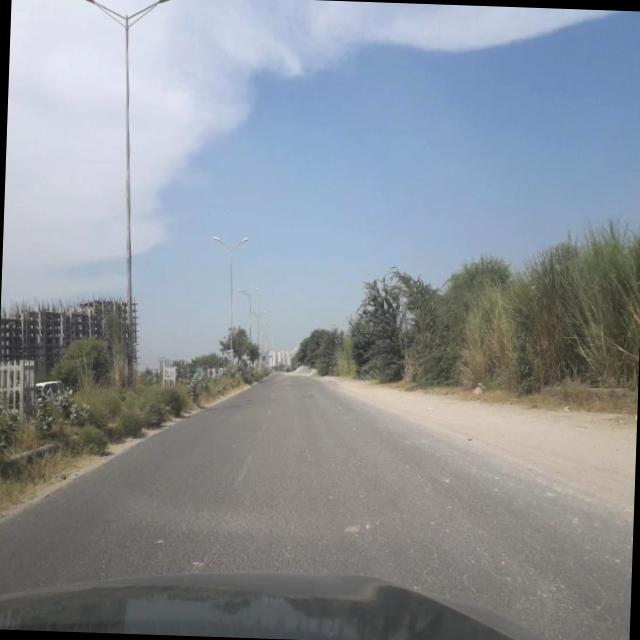crack: (60, 432, 630, 598)
